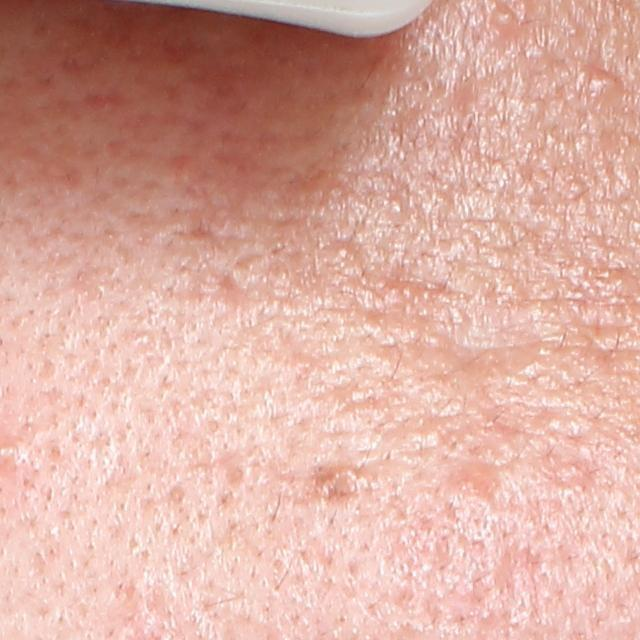comedo: (588, 71, 623, 102)
